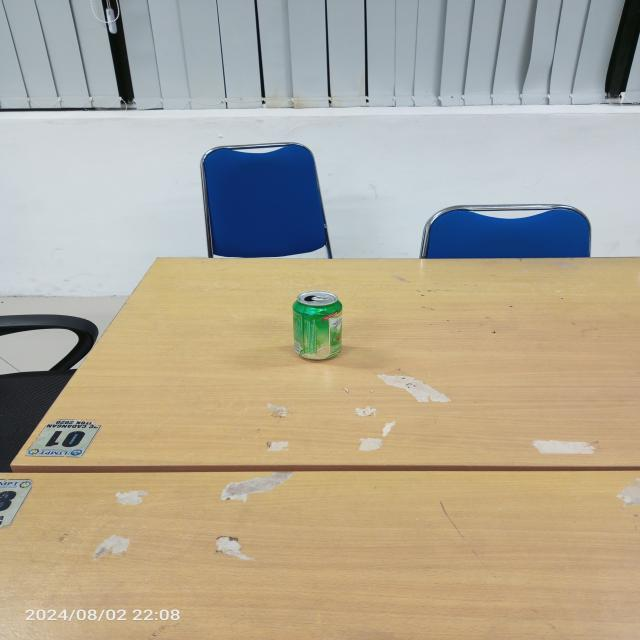ademsarikaleng: (291, 290, 344, 361)
